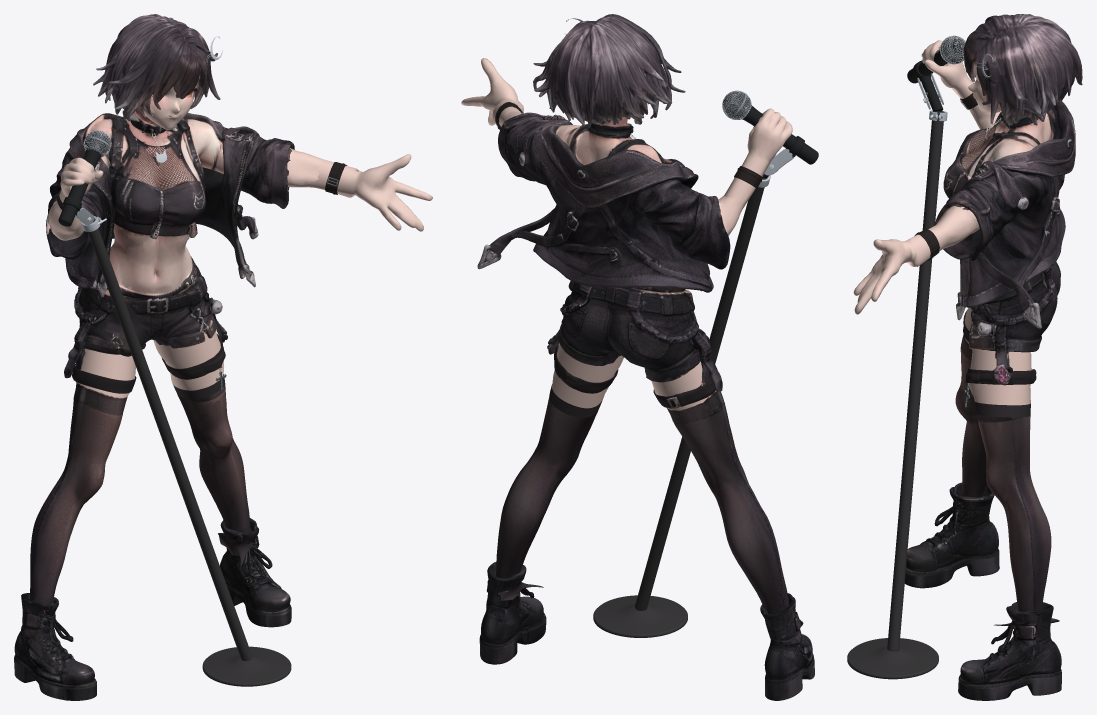
The model's file is black-mic-v2.glb.
3 views of the same model, side by side, from view 1: azimuth 30°, elevation 25°; view 2: azimuth 150°, elevation 25°; view 3: azimuth 270°, elevation 25° (orthographic). The views are drawn at different scales.
Visible parts, largest first — view 1: tripo_node_448737f6-8ea0-4c84-8e2c-7cc952a8650e, Microphone stand, Reference microphone, v21 continuous right thigh leather belt; view 2: tripo_node_448737f6-8ea0-4c84-8e2c-7cc952a8650e, Microphone stand, Reference microphone, v21 continuous right thigh leather belt, Fitted leather wrist belts; view 3: tripo_node_448737f6-8ea0-4c84-8e2c-7cc952a8650e, Microphone stand, Reference microphone, v21 continuous right thigh leather belt, Fitted leather wrist belts.
Boxes of the visible parts, x1,y1,x2,y2 form: tripo_node_448737f6-8ea0-4c84-8e2c-7cc952a8650e: [14, 14, 432, 700]; Microphone stand: [87, 218, 291, 686]; Reference microphone: [58, 130, 111, 231]; v21 continuous right thigh leather belt: [162, 334, 225, 379]; tripo_node_448737f6-8ea0-4c84-8e2c-7cc952a8650e: [461, 14, 814, 700]; Microphone stand: [593, 178, 766, 637]; Reference microphone: [722, 90, 818, 187]; v21 continuous right thigh leather belt: [554, 345, 618, 393]; Fitted leather wrist belts: [495, 102, 762, 188]; tripo_node_448737f6-8ea0-4c84-8e2c-7cc952a8650e: [853, 14, 1082, 700]; Microphone stand: [847, 111, 944, 679]; Reference microphone: [907, 35, 965, 121]; v21 continuous right thigh leather belt: [965, 367, 1036, 384]; Fitted leather wrist belts: [914, 93, 977, 261].
Bounding box in the file's own units: 0.626 × 1 × 0.3387.
36 materials, 36 textured.
